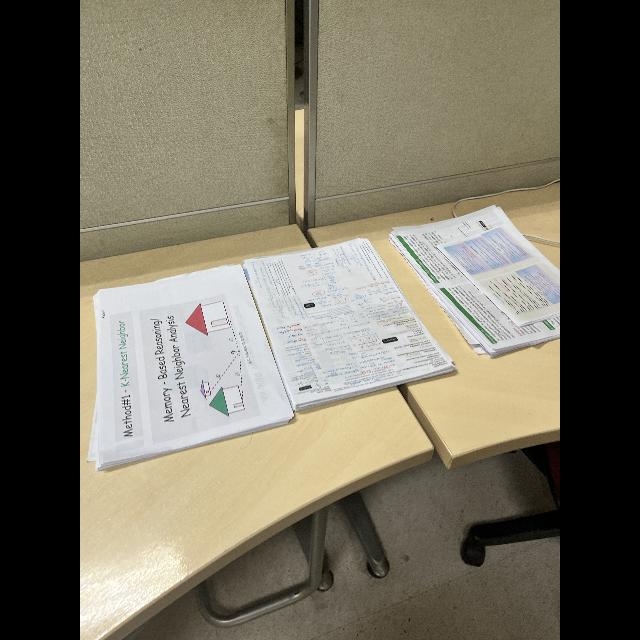reuseable_paper: (91, 232, 459, 480), (394, 206, 560, 370)
